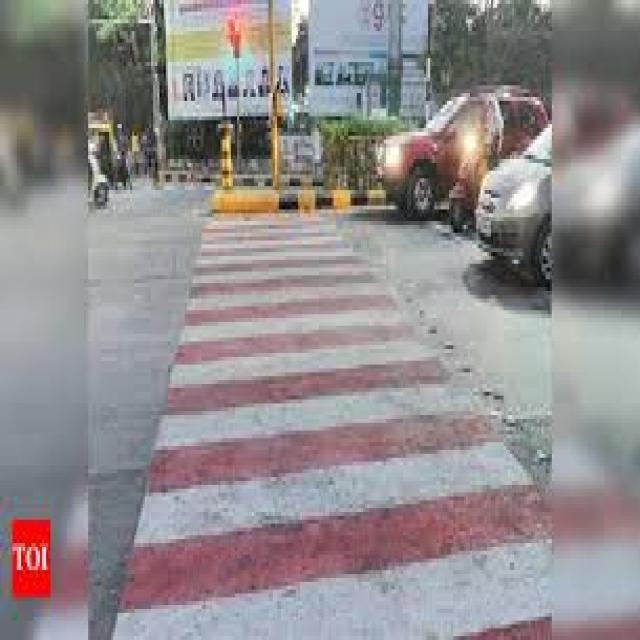zebra crossing ahead at: (111, 212, 550, 638)
